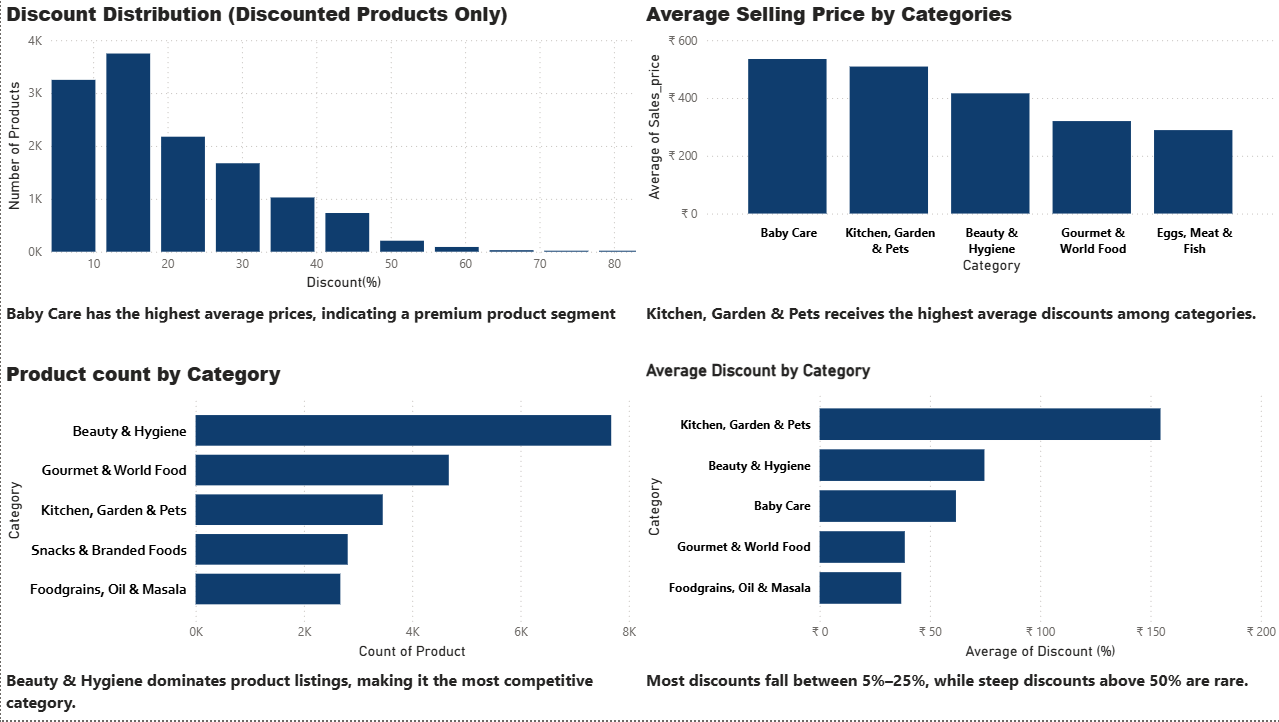

The page's visual inventory and layout, read from the dashboard file:
{"tool":"powerbi","page":{"name":"Category and Discount Analysis","canvas":[1280,720],"ordinal":1},"visuals":[{"type":"clusteredBarChart","title":"Product count by Category ","fields":{"Category":["BigBasket Products.Category"],"Y":["CountNonNull(BigBasket Products.Product)"]},"box":[0,360,640,304.3],"z":0},{"type":"barChart","title":"Average Discount by Category","fields":{"Category":["BigBasket Products.Category"],"Y":["Avg(BigBasket Products.Discount)"]},"box":[640,360,640,304.3],"z":1000},{"type":"columnChart","title":"Average Selling Price by Categories","fields":{"Category":["BigBasket Products.Category"],"Y":["Avg(BigBasket Products.Sales_price)"]},"box":[640,0,640,278.6],"z":2000},{"type":"columnChart","title":"Discount Distribution (Discounted Products Only)","fields":{"Category":["BigBasket Products.Discount_% (bins)"],"Y":["CountNonNull(BigBasket Products.Product)"]},"box":[0,0,640,295.7],"z":3000},{"type":"textbox","box":[0,664.3,640,55.7],"z":4000},{"type":"textbox","box":[0,295.7,640,31.4],"z":5000},{"type":"textbox","box":[640,295.7,640,31.4],"z":6000},{"type":"textbox","box":[640,664.3,640,55.7],"z":7000}]}

Visuals, with their boxes in screenshot pixels (x1, y1, x2, y2), scaled from the page's 1280x720 canvas onto the 1279x722 screenshot:
"Product count by Category " clusteredBarChart: 0, 361, 640, 666
"Average Discount by Category" barChart: 640, 361, 1278, 666
"Average Selling Price by Categories" columnChart: 640, 0, 1278, 279
"Discount Distribution (Discounted Products Only)" columnChart: 0, 0, 640, 297
textbox: 0, 666, 640, 721
textbox: 0, 297, 640, 328
textbox: 640, 297, 1278, 328
textbox: 640, 666, 1278, 721
